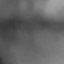MouthFatigue: (1, 8, 64, 48)
